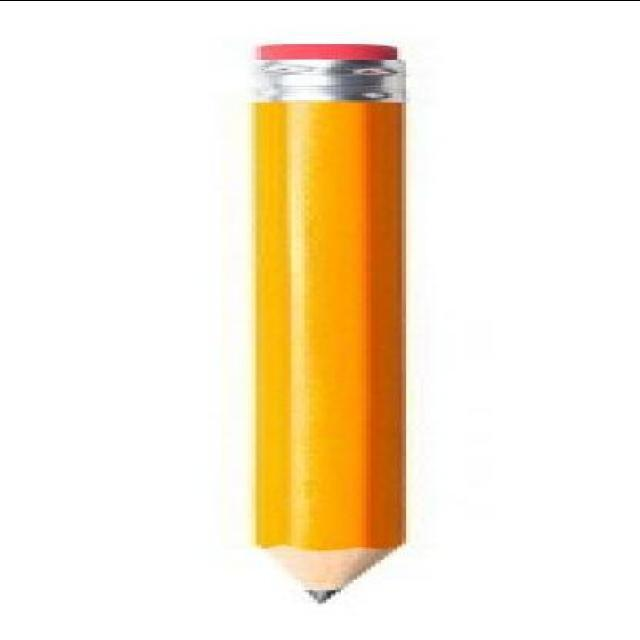Pencil: (230, 536, 424, 610)
